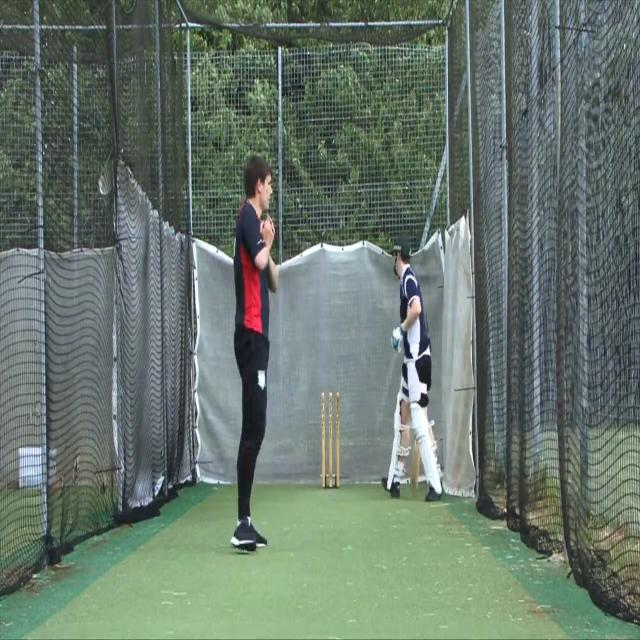batsman: (380, 232, 443, 504)
